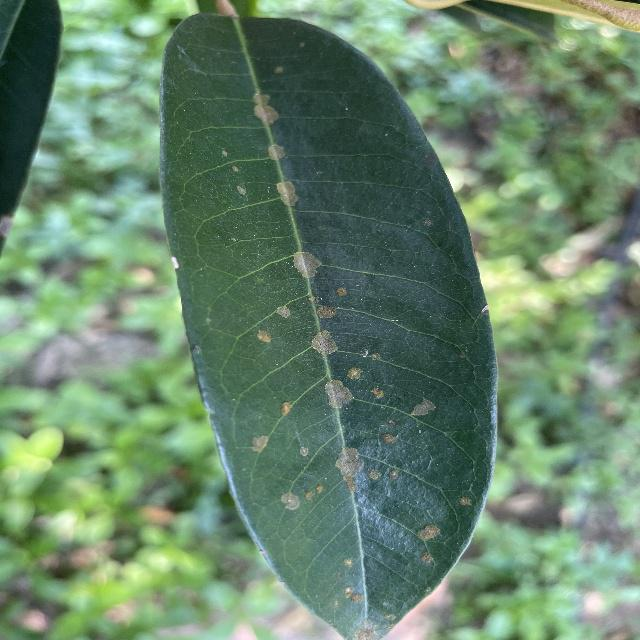Algal Leaf Spot: (155, 0, 508, 639)
